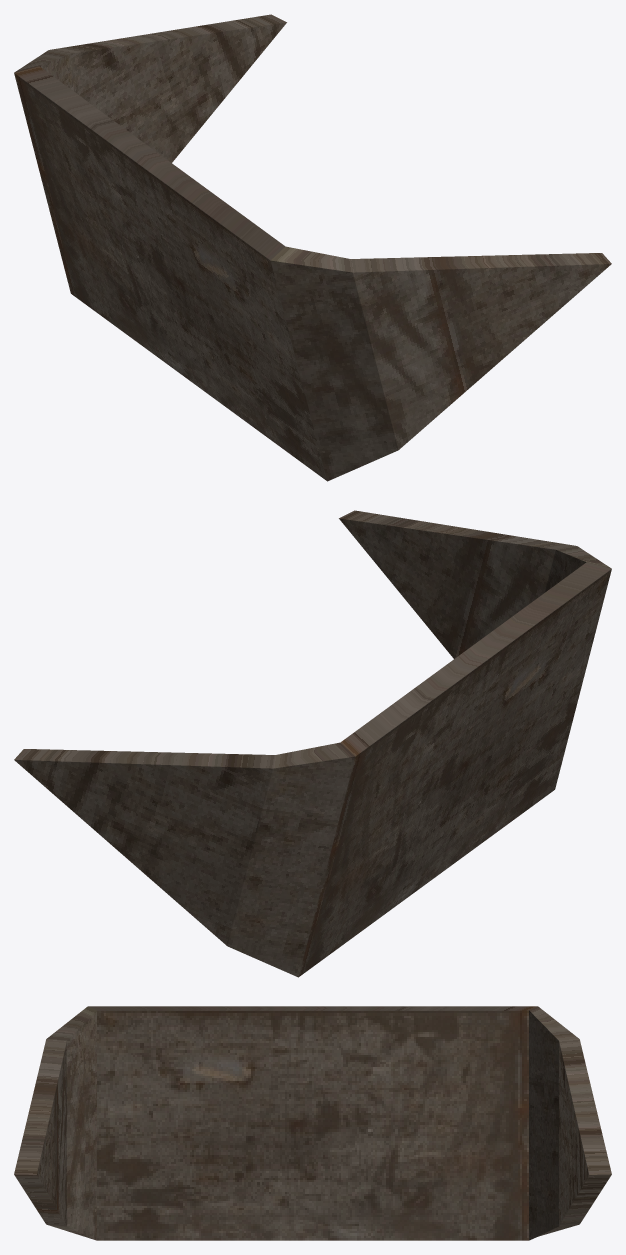
The model's file is dispenser_door_1.glb.
3 renders of one model, top to bottom at view 1: azimuth 30°, elevation 25°; view 2: azimuth 150°, elevation 25°; view 3: azimuth 270°, elevation 25°, orthographic. The views are drawn at different scales.
Visible parts, largest first — view 1: Cylinder.013; view 2: Cylinder.013; view 3: Cylinder.013.
Part boxes in pixels (bbox=[...]): Cylinder.013: bbox=[14, 14, 611, 481]; Cylinder.013: bbox=[14, 510, 611, 977]; Cylinder.013: bbox=[14, 1006, 611, 1240].
Size of the model in its own units: 0.6825 by 0.518 by 1.33.
Materials: 1 (1 with a texture image).
